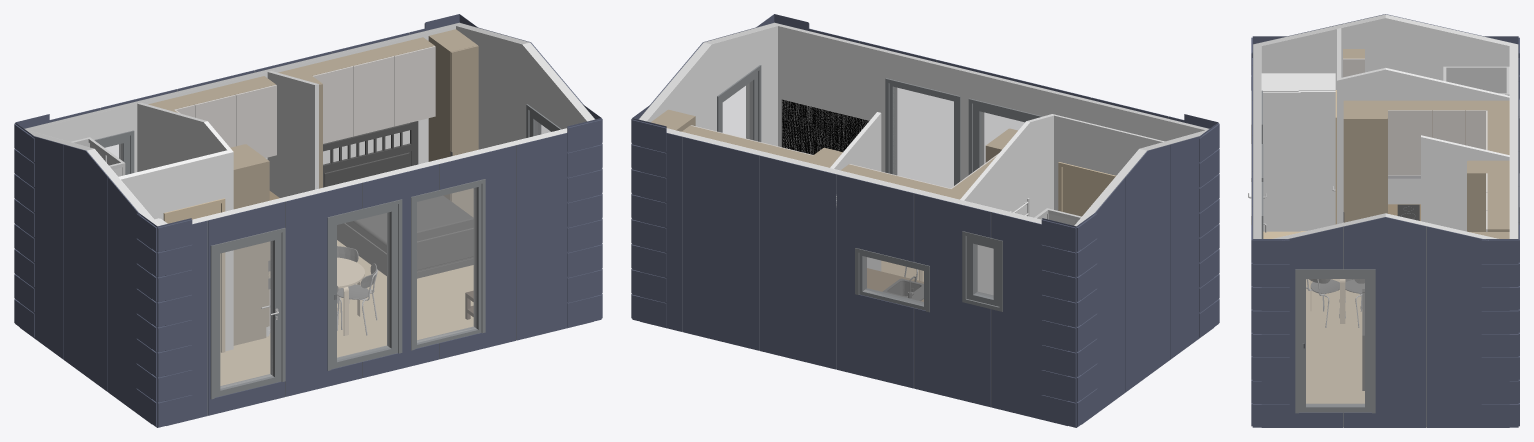
The picture shows the model from 3 angles, left to right: view 1: azimuth 30°, elevation 25°; view 2: azimuth 150°, elevation 25°; view 3: azimuth 270°, elevation 25°; orthographic projection. The views are drawn at different scales.
Visible parts, largest first — view 1: IfcBuildingElementProxy/Kampai Kvadratiniai - line based:Mu. (×4), IfcWindow/Langai (Akrusta):1000x2100x120 (kairinis):2750757, IfcDoor/Durys išorinės:1000x2100x120 (kairinės):2439432, IfcWindow/Langai (Akrusta):1000x2100x120:2761594, IfcPlate/System Panel:Sandwich užbaigimas Multisplit:3006171, IfcPlate/System Panel:Sandwich užbaigimas Multisplit:3006206, IfcPlate/System Panel:Sandwich užbaigimas Multisplit:3006178, IfcFurnishingElement/Lova (BED) IKEA:Full Size - Black/Brown, IfcFurnishingElement/Sorento G60(100) (Pakabinama):Sorento . (×3), IfcPlate/System Panel:Sandwich užbaigimas Multisplit:3006174, IfcSlab/Part:2319985, IfcWall/Part:2397151 (+23 smaller); view 2: IfcWall/Part:2319976, IfcBuildingElementProxy/Kampai Kvadratiniai - line based:Mu. (×3), IfcPlate/System Panel:Sandwich užbaigimas Multisplit:3006146, IfcPlate/System Panel:Sandwich užbaigimas Multisplit:3006144, IfcPlate/System Panel:Sandwich užbaigimas Multisplit:3006142, IfcPlate/System Panel:Sandwich užbaigimas Multisplit:3006140, IfcPlate/System Panel:Sandwich užbaigimas Multisplit:3006206, IfcPlate/System Panel:Sandwich užbaigimas Multisplit:3006137, IfcBuildingElementProxy/Kampai Kvadratiniai - line based:Mu, IfcWindow/Langai (Akrusta):1000x2100x120:2761594, IfcWall/Part:2397151, IfcWallStandardCase/Basic Wall:Sandwich - vidines sienos 60m (+18 smaller); view 3: IfcPlate/System Panel:Sandwich užbaigimas Multisplit:3006122, IfcWindow/Langai (Akrusta):1000x2100x120 (kairinis):3004067, IfcFurnishingElement/Ikea spinta:900 x 600 x 2100mm 2:276165, IfcPlate/System Panel:Sandwich užbaigimas Multisplit:3006119, IfcWall/Part:2755461, IfcBuildingElementProxy/Kampai Kvadratiniai - line based:Mu. (×2), IfcBuildingElementProxy/Kampai Kvadratiniai - line based:Mul, IfcFurnishingElement/Sorento D60ZLN (Su šaldytuvu)1:Sorento  (×2), IfcSlab/Part:2319985, IfcWallStandardCase/Basic Wall:Sandwich - vidines sienos 60m, IfcFurnishingElement/Sorento G60(100) (Pakabinama):Sorento . (×6), IfcWallStandardCase/Basic Wall:Sandwich - vidines sienos 60 (+15 smaller).
Part boxes in pixels (x1,y1,x2,y2): IfcBuildingElementProxy/Kampai Kvadratiniai - line based:Mu. (×4): (14,118,602,427); IfcWindow/Langai (Akrusta):1000x2100x120 (kairinis):2750757: (327,199,402,370); IfcDoor/Durys išorinės:1000x2100x120 (kairinės):2439432: (210,228,285,399); IfcWindow/Langai (Akrusta):1000x2100x120:2761594: (411,179,485,350); IfcPlate/System Panel:Sandwich užbaigimas Multisplit:3006171: (516,133,593,340); IfcPlate/System Panel:Sandwich užbaigimas Multisplit:3006206: (63,144,107,391); IfcPlate/System Panel:Sandwich užbaigimas Multisplit:3006178: (285,183,361,396); IfcFurnishingElement/Lova (BED) IKEA:Full Size - Black/Brown: (323,121,473,278); IfcFurnishingElement/Sorento G60(100) (Pakabinama):Sorento . (×3): (183,47,394,157); IfcPlate/System Panel:Sandwich užbaigimas Multisplit:3006174: (439,145,516,359); IfcSlab/Part:2319985: (220,240,473,385); IfcWall/Part:2397151: (456,26,586,149); IfcWall/Part:2319976: (778,26,1204,180); IfcBuildingElementProxy/Kampai Kvadratiniai - line based:Mu. (×3): (1041,122,1219,427); IfcPlate/System Panel:Sandwich užbaigimas Multisplit:3006146: (682,137,759,350); IfcPlate/System Panel:Sandwich užbaigimas Multisplit:3006144: (760,155,836,369); IfcPlate/System Panel:Sandwich užbaigimas Multisplit:3006142: (837,174,913,388); IfcPlate/System Panel:Sandwich užbaigimas Multisplit:3006140: (914,193,990,407); IfcPlate/System Panel:Sandwich užbaigimas Multisplit:3006206: (1125,144,1169,392); IfcPlate/System Panel:Sandwich užbaigimas Multisplit:3006137: (991,212,1068,425); IfcBuildingElementProxy/Kampai Kvadratiniai - line based:Mu: (631,118,666,326); IfcWindow/Langai (Akrusta):1000x2100x120:2761594: (885,78,960,187); IfcWall/Part:2397151: (647,26,777,146); IfcWallStandardCase/Basic Wall:Sandwich - vidines sienos 60m: (960,114,1055,294); IfcPlate/System Panel:Sandwich užbaigimas Multisplit:3006122: (1343,217,1426,427); IfcWindow/Langai (Akrusta):1000x2100x120 (kairinis):3004067: (1295,269,1375,413); IfcFurnishingElement/Ikea spinta:900 x 600 x 2100mm 2:276165: (1261,73,1335,231); IfcPlate/System Panel:Sandwich užbaigimas Multisplit:3006119: (1427,226,1509,427); IfcWall/Part:2755461: (1261,18,1509,89); IfcBuildingElementProxy/Kampai Kvadratiniai - line based:Mu. (×2): (1251,224,1289,427); IfcBuildingElementProxy/Kampai Kvadratiniai - line based:Mul: (1481,239,1518,427); IfcFurnishingElement/Sorento D60ZLN (Su šaldytuvu)1:Sorento  (×2): (1343,100,1509,231); IfcSlab/Part:2319985: (1263,231,1364,403); IfcWallStandardCase/Basic Wall:Sandwich - vidines sienos 60m: (1337,68,1509,224); IfcFurnishingElement/Sorento G60(100) (Pakabinama):Sorento . (×6): (1343,49,1509,210); IfcWallStandardCase/Basic Wall:Sandwich - vidines sienos 60: (1421,135,1509,231).
Bounding box in the file's own units: 654 × 315 × 369.
